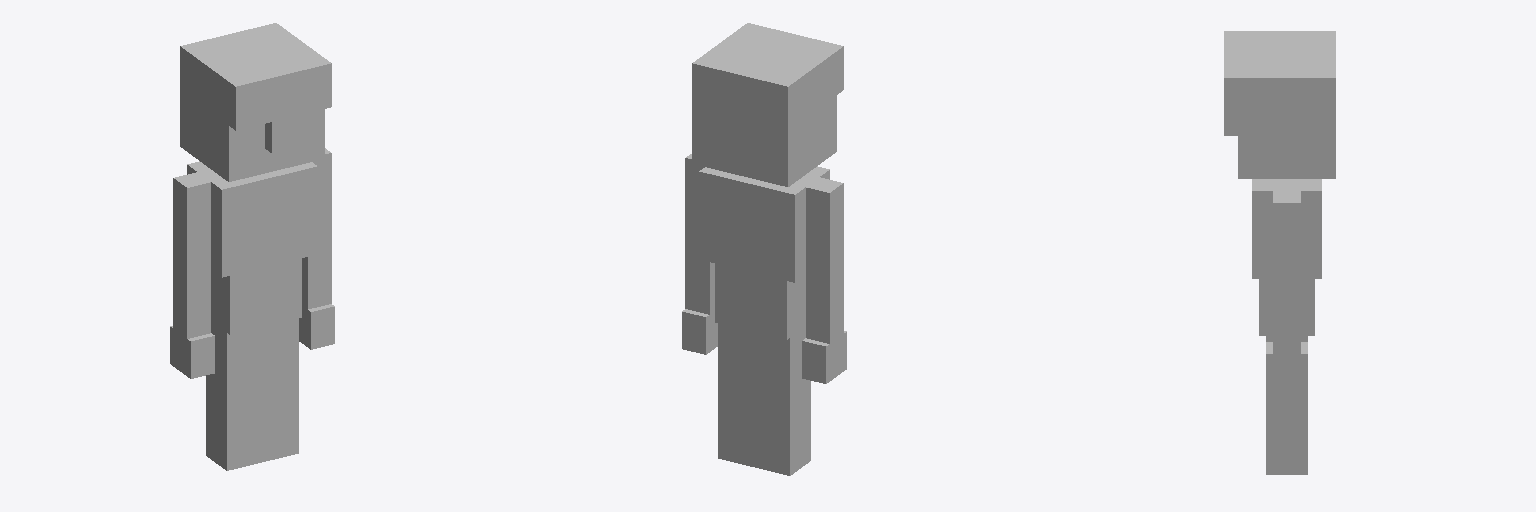
Rendered from nord_animated.obj.
3 views of the same model, side by side, from view 1: azimuth 30°, elevation 25°; view 2: azimuth 150°, elevation 25°; view 3: azimuth 270°, elevation 25° (orthographic).
Parts seen in each view (by area): view 1: Nord_Cube; view 2: Nord_Cube; view 3: Nord_Cube.
Part boxes in pixels (x1,y1,x2,y2): Nord_Cube: (170, 23, 334, 470); Nord_Cube: (682, 23, 846, 475); Nord_Cube: (1224, 31, 1335, 474).
Size of the model in its own units: 1.5 by 4 by 1.